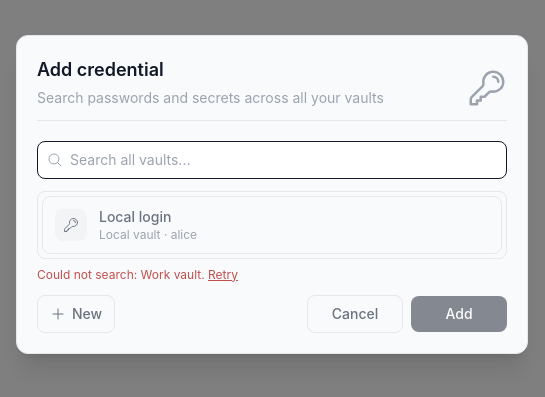
Scenario: unified credential picker › keeps successful results when a vault fails and allows retry
The width and height of the screenshot is (545, 397).
Check: the button "Local login Local vault · alice" is enabled, box [42,196,502,254]
Check: the message shows "Could not search: Work vault", box [37,266,238,282]
What coordinates should you click on to do the following:
click the button "Retry"
I would click on:
 (223, 274)
Its box is [208,266,238,282].
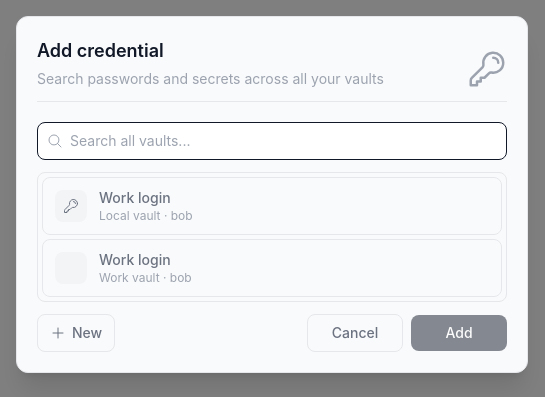
Check: the button named "Work login, Work vault" is enabled, box [42,238,502,296]
Check: the message "Could not search: Work vault. Retry" is gone
